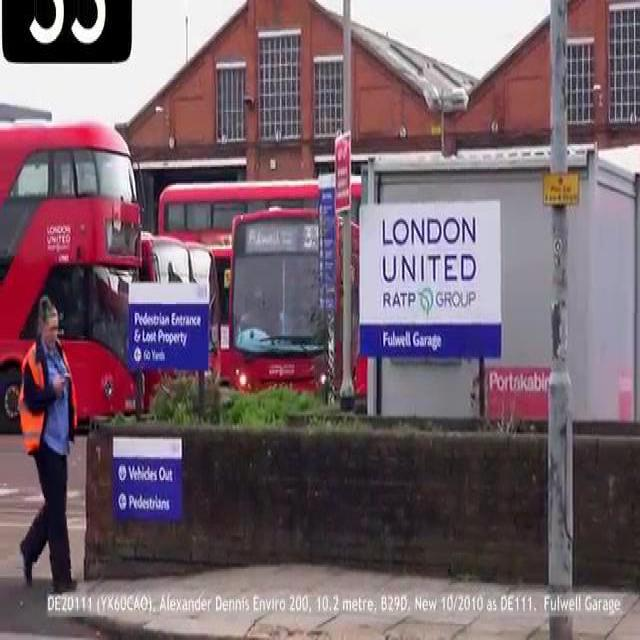motorcycle: (0, 126, 169, 411), (217, 192, 339, 414), (157, 171, 322, 265), (139, 217, 224, 395)
